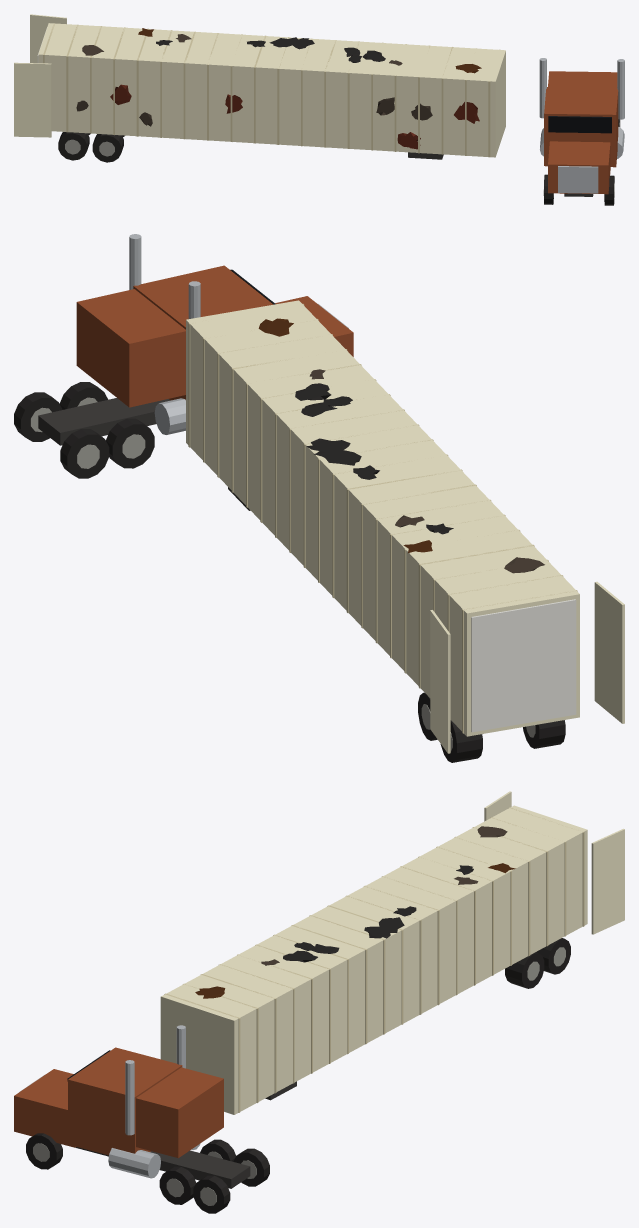
File: pass_truck.glb
The picture shows the model from 3 angles, top to bottom: view 1: azimuth 30°, elevation 25°; view 2: azimuth 150°, elevation 25°; view 3: azimuth 270°, elevation 25°; orthographic projection. The views are drawn at different scales.
Parts seen in each view (by area): view 1: pass_truck; view 2: pass_truck; view 3: pass_truck.
Part boxes in pixels (x1,y1,x2,y2): pass_truck: (14, 14, 624, 205); pass_truck: (14, 234, 624, 762); pass_truck: (14, 791, 624, 1213).
Size of the model in its own units: 19.65 by 4.1 by 17.03.
